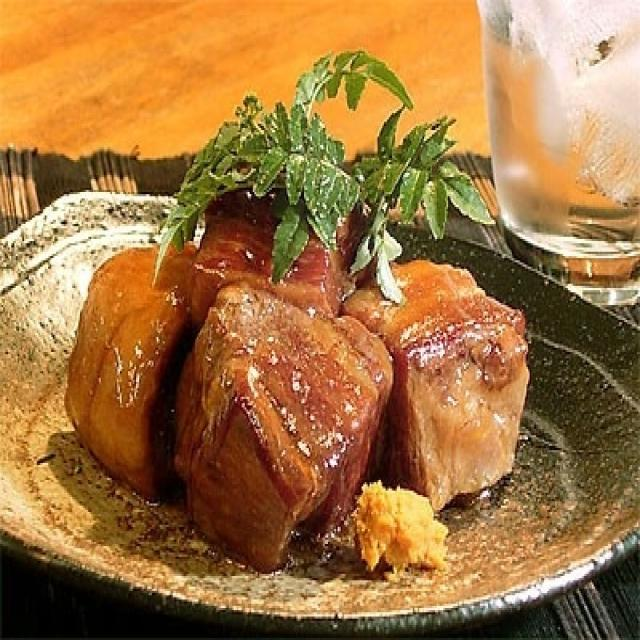猪肉菜式: (72, 171, 536, 576)
